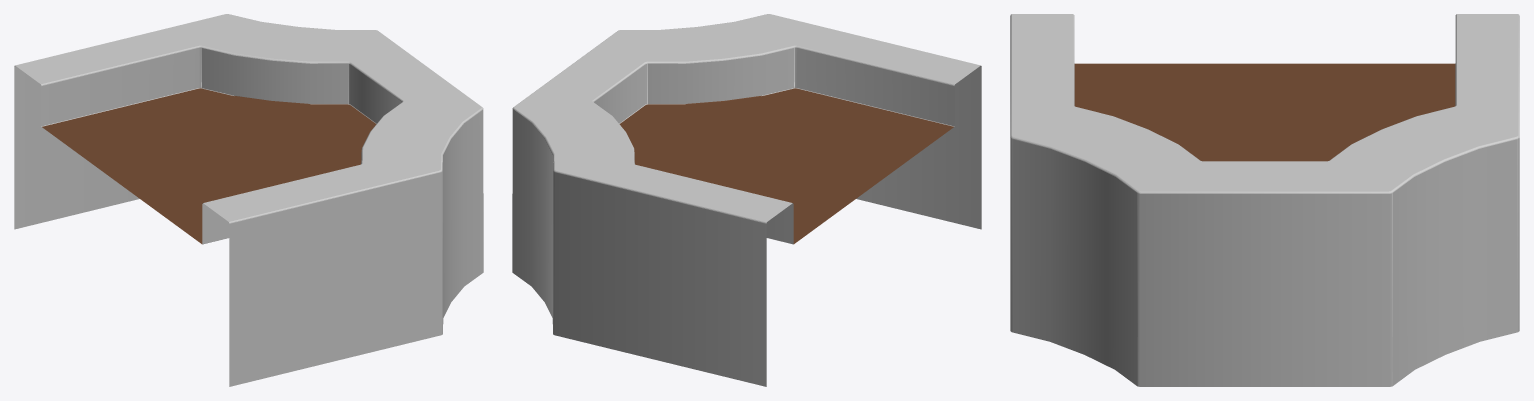
File: Maceta U_UV.fbx
The picture shows the model from 3 angles, left to right: view 1: azimuth 30°, elevation 25°; view 2: azimuth 150°, elevation 25°; view 3: azimuth 270°, elevation 25°; orthographic projection. The views are drawn at different scales.
Parts seen in each view (by area): view 1: Cube.168; view 2: Cube.168; view 3: Cube.168.
Boxes of the visible parts, x1=… form: Cube.168: x1=14, y1=14, x2=483, y2=386; Cube.168: x1=512, y1=14, x2=981, y2=386; Cube.168: x1=1010, y1=14, x2=1519, y2=386.
Bounding box in the file's own units: 285 × 145 × 344.
